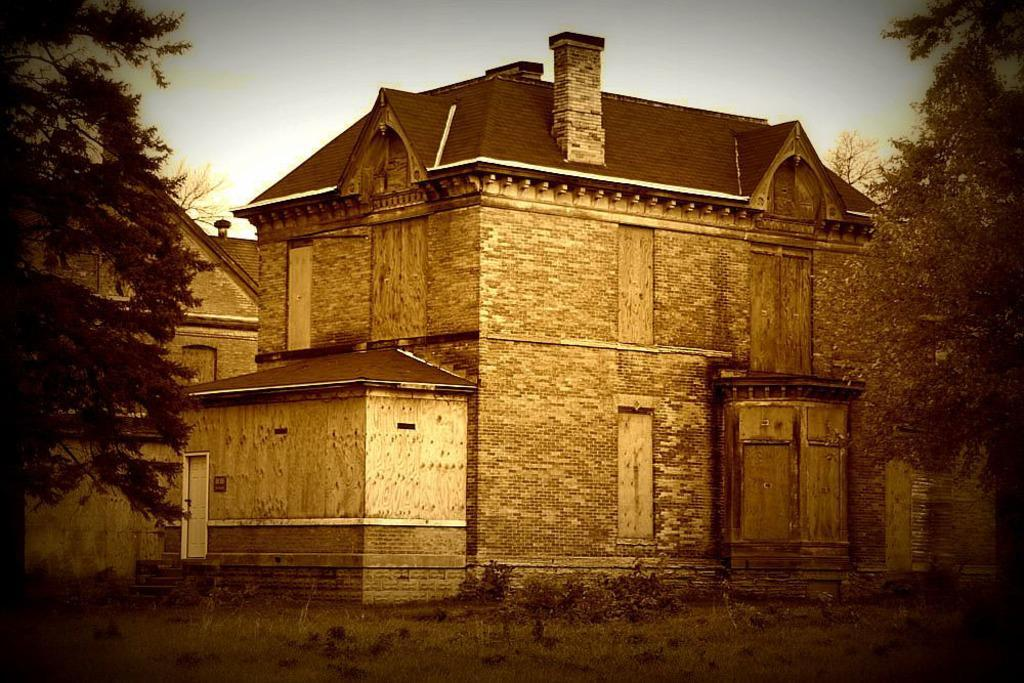door: (187, 458, 208, 558)
